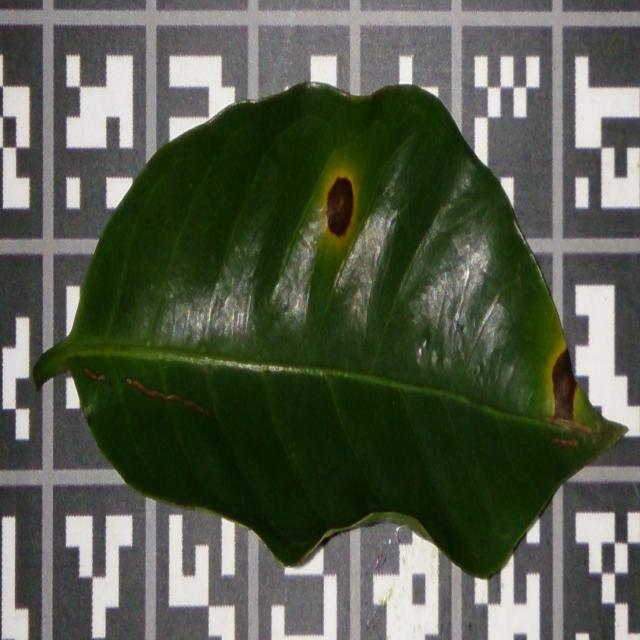Enfermedad-Mancha-de-hierro: (31, 84, 626, 580)
